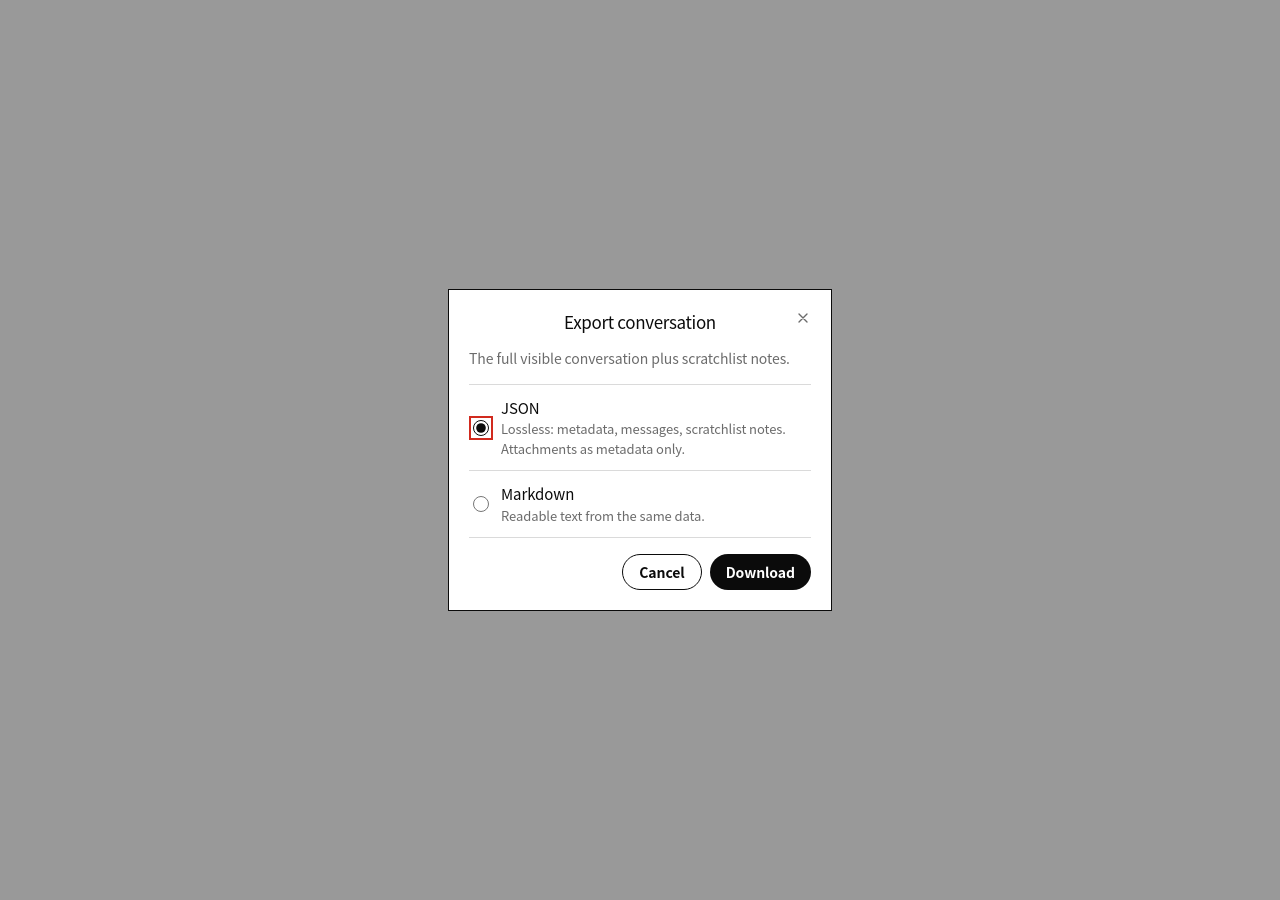
SessionExportDialog large export confirmation › shows count and estimated size, and cancel does not retry or download
The width and height of the screenshot is (1280, 900).
Later steps or results of the test are not shown.
Click the button "Download" at (760, 572), box [710,554,811,590]
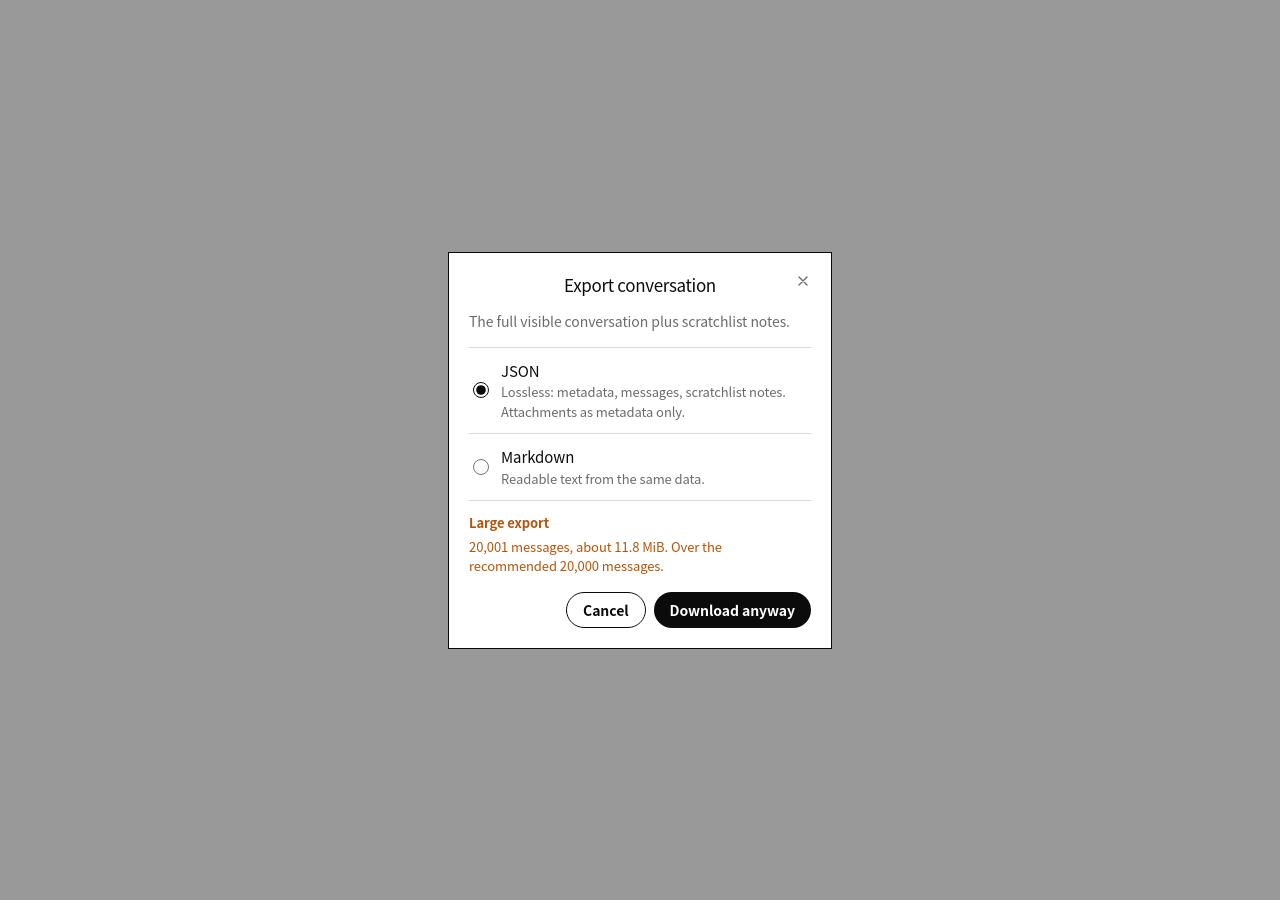
Result: the text "11.8 MiB" is shown at [469,536,722,575]
Result: the button "Download anyway" is shown at [654,592,811,628]
